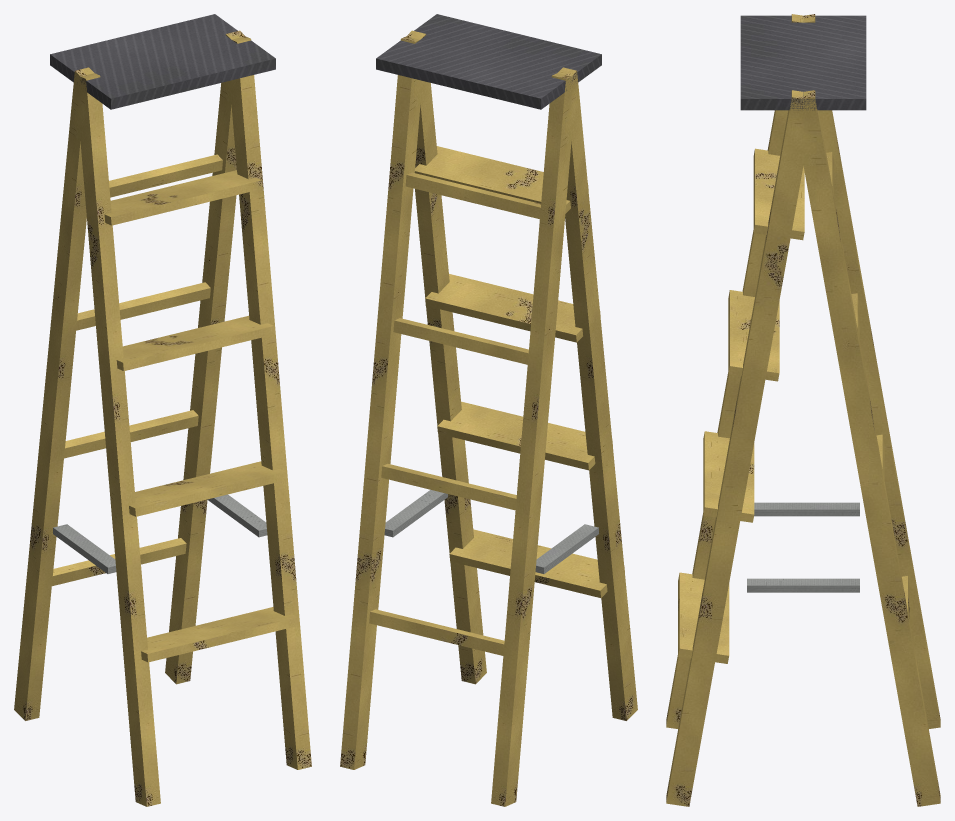
Rendered from ladder.glb.
3 views of the same model, side by side, from view 1: azimuth 30°, elevation 25°; view 2: azimuth 150°, elevation 25°; view 3: azimuth 270°, elevation 25° (orthographic). The views are drawn at different scales.
Visible parts, largest first — view 1: NC_ladder; view 2: NC_ladder; view 3: NC_ladder.
Boxes of the visible parts, bbox=[...] form: NC_ladder: bbox=[14, 14, 311, 806]; NC_ladder: bbox=[340, 14, 637, 806]; NC_ladder: bbox=[666, 14, 940, 806].
Bounding box in the file's own units: 0.47 × 1.87 × 0.6553.
Materials: 3 (3 with a texture image).
